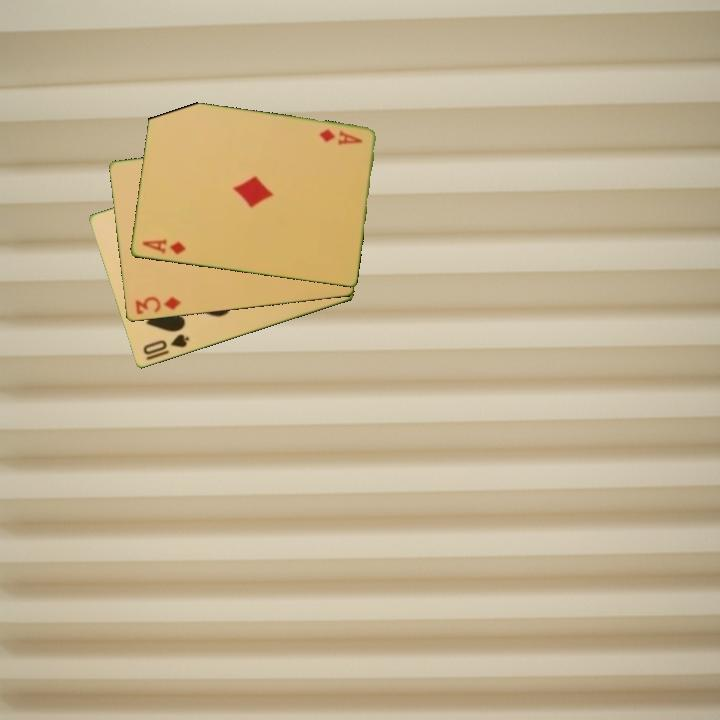10s: (139, 331, 192, 358)
3d: (132, 293, 183, 317)
Ad: (138, 236, 188, 258), (315, 126, 365, 148)
